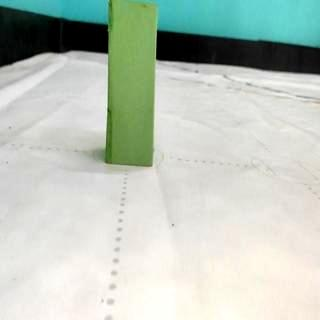greenbox: (106, 0, 158, 169)
